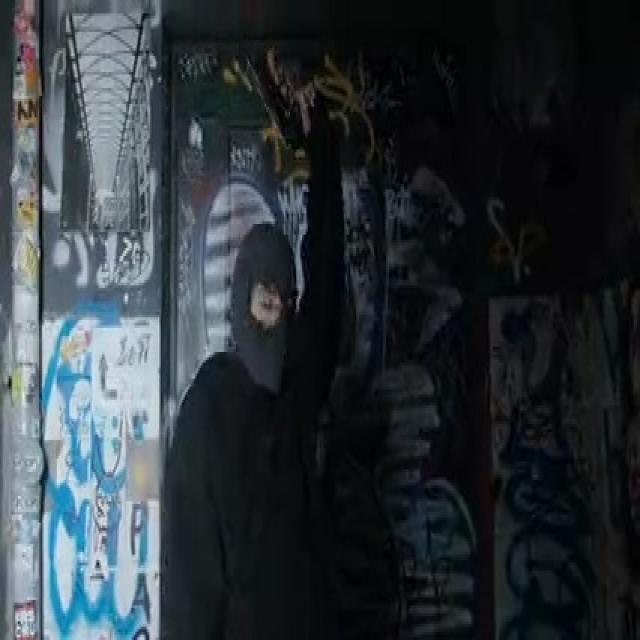Gun_Holder: (245, 49, 347, 182)
Person: (165, 200, 334, 640)
